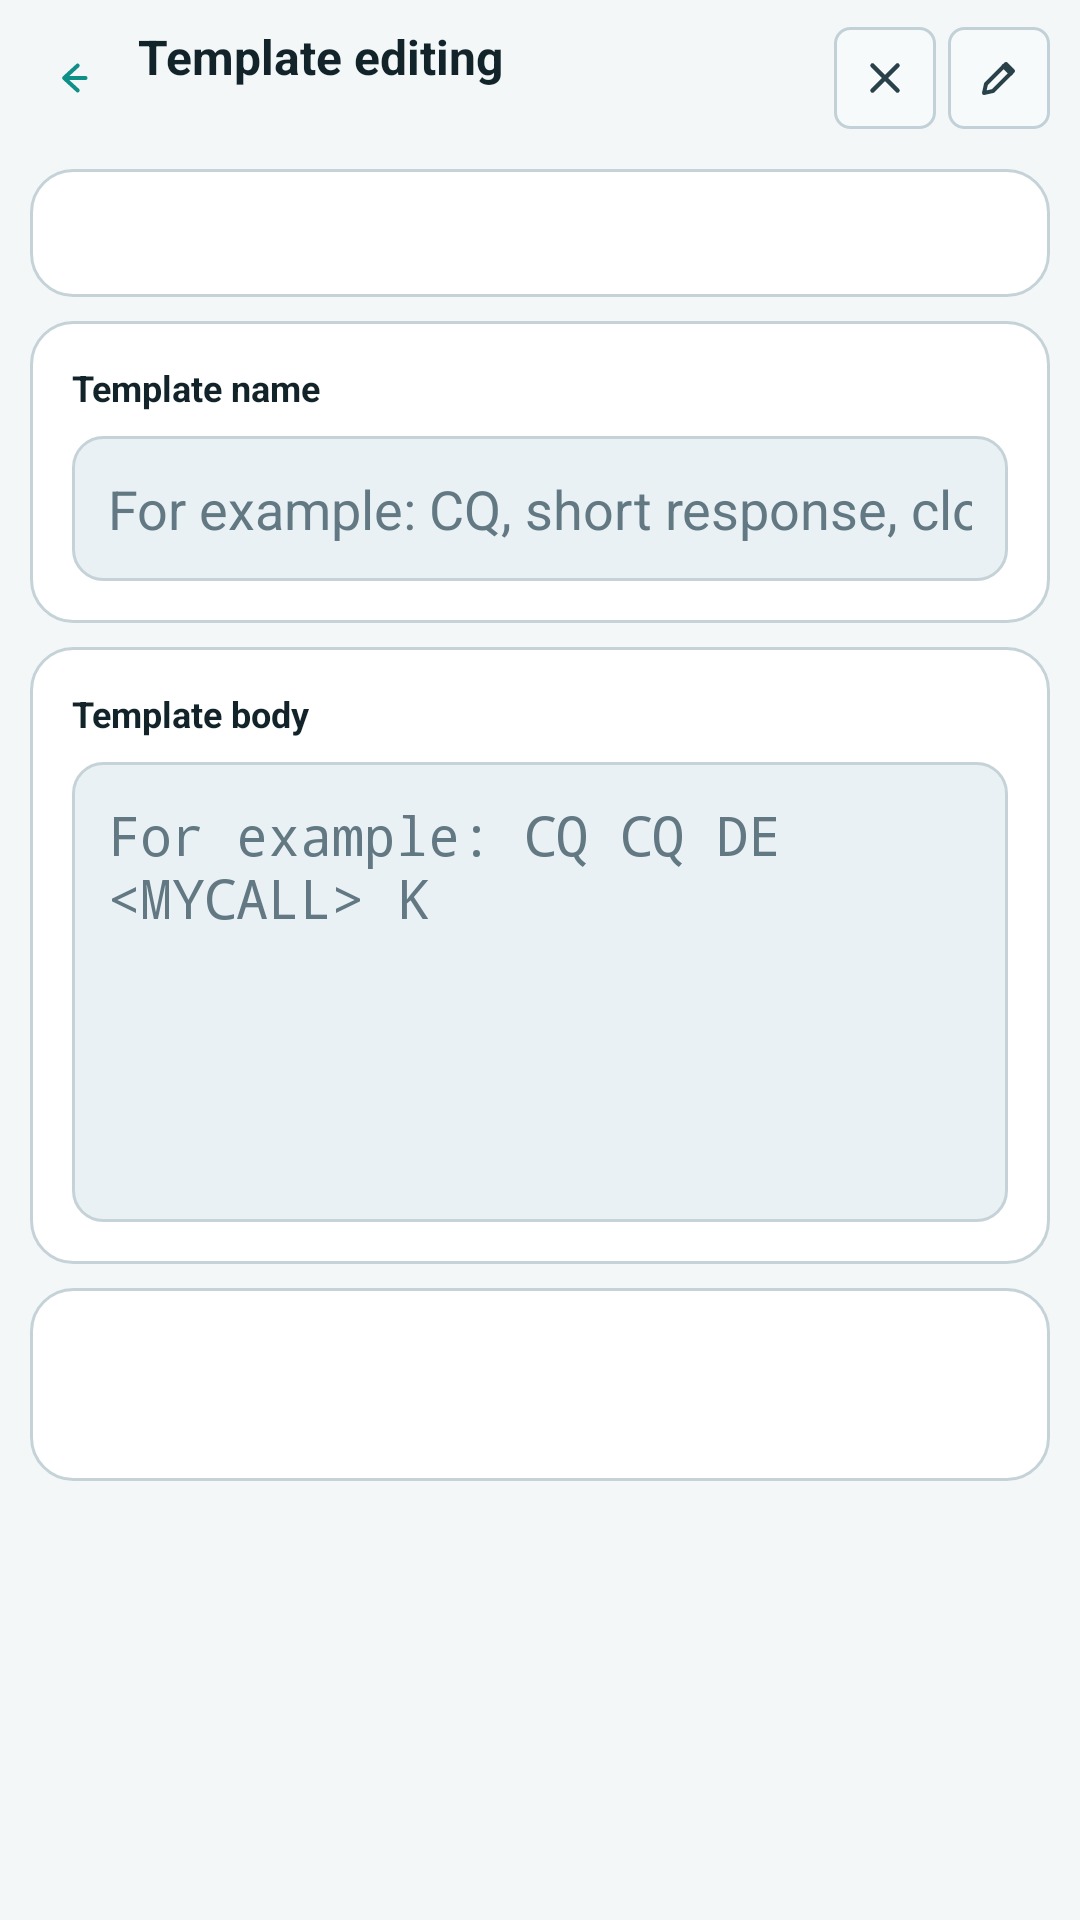

Icon click points for this 1080x1920 phone screenshot, format (x=x, y=y):
Back: (x=75, y=78)
